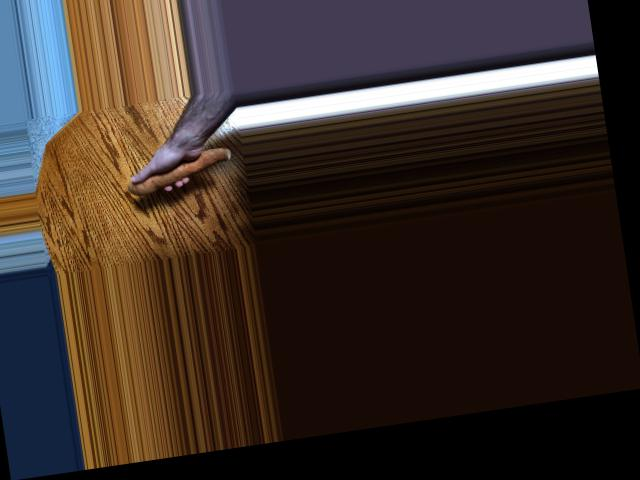sweet_potato: (124, 144, 236, 197)
